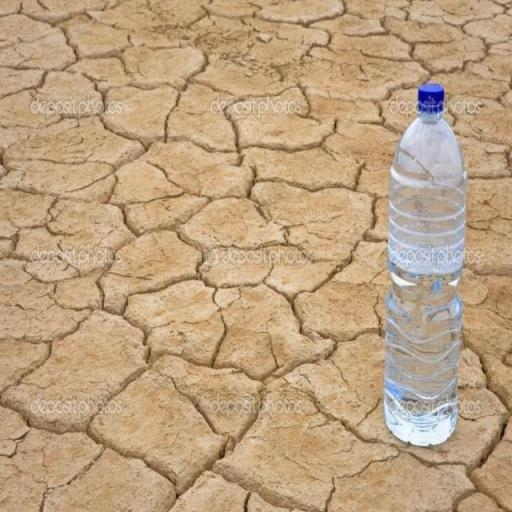plastic: (383, 80, 467, 450)
